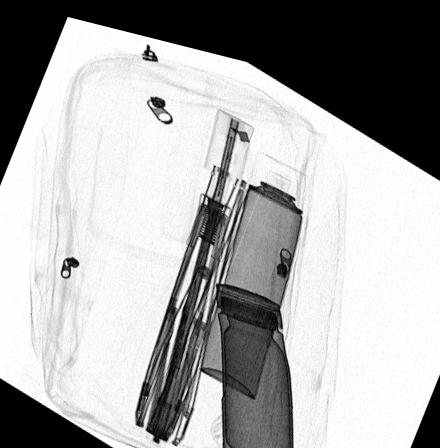Sprayer: (198, 137, 307, 385)
